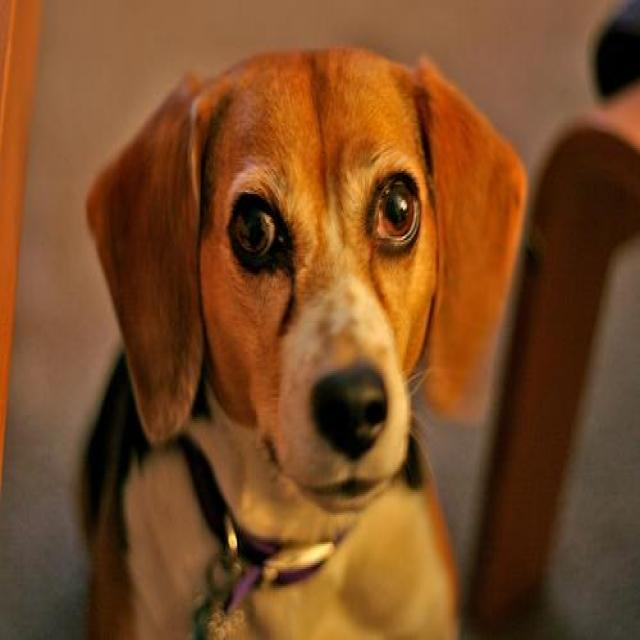beagle: (85, 50, 528, 638)
